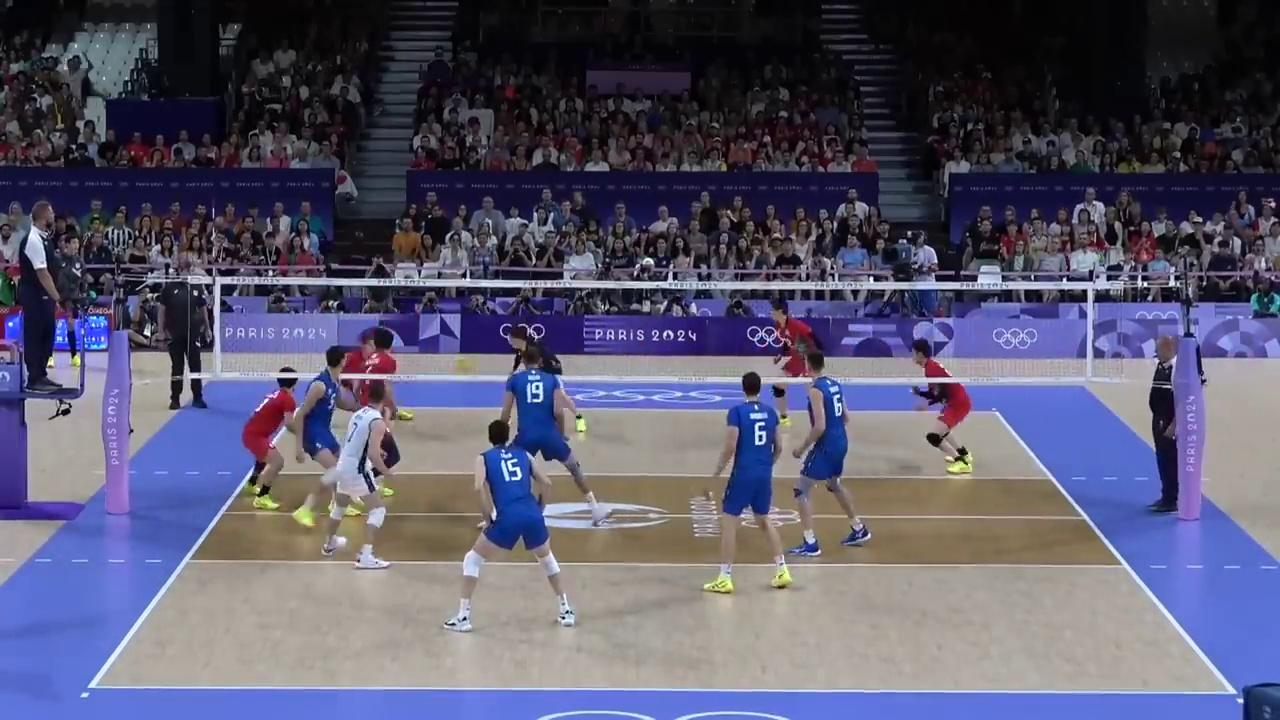ball: (453, 355, 477, 374)
